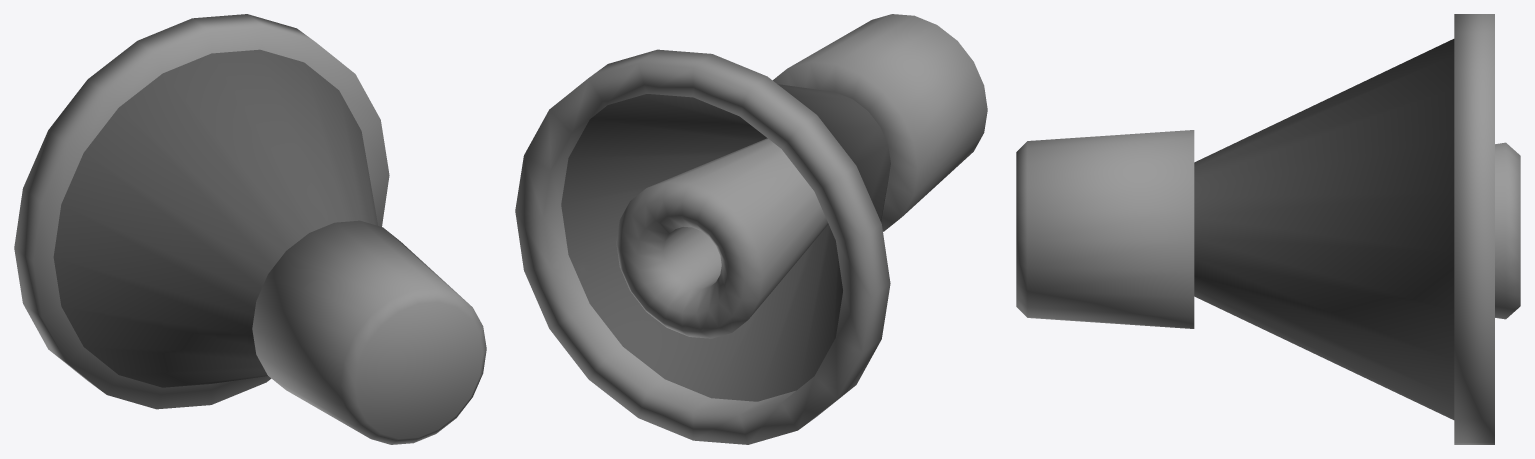
The model's file is Megafono.obj.
3 renders of one model, left to right at view 1: azimuth 30°, elevation 25°; view 2: azimuth 150°, elevation 25°; view 3: azimuth 270°, elevation 25°, orthographic. The views are drawn at different scales.
Parts seen in each view (by area): view 1: Megafono_Cylinder; view 2: Megafono_Cylinder; view 3: Megafono_Cylinder.
Part boxes in pixels (x1,y1,x2,y2): Megafono_Cylinder: [14, 14, 486, 444]; Megafono_Cylinder: [515, 14, 987, 444]; Megafono_Cylinder: [1016, 14, 1520, 444].
Bounding box in the file's own units: 0.4581 × 0.4581 × 0.5323.
